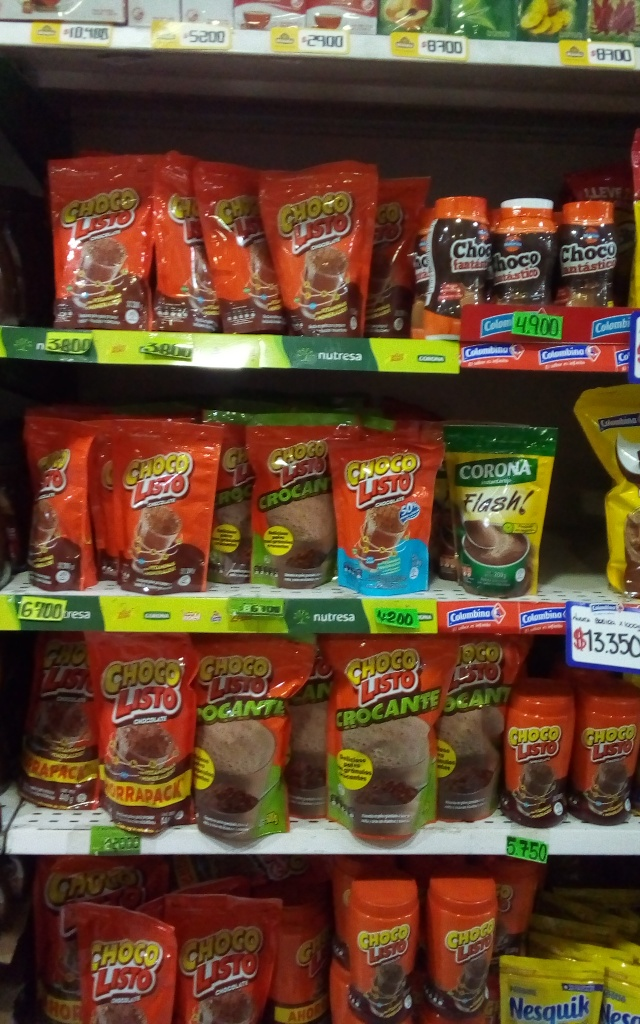COL0170102DYP50000: (321, 635, 460, 839)
COL0170103DYP44000: (82, 629, 198, 830)
COL0170103TRR00100: (268, 893, 337, 1024)
COL0170103TRR30000: (578, 682, 640, 826)
COL0170104DYP20000: (330, 431, 438, 597)
